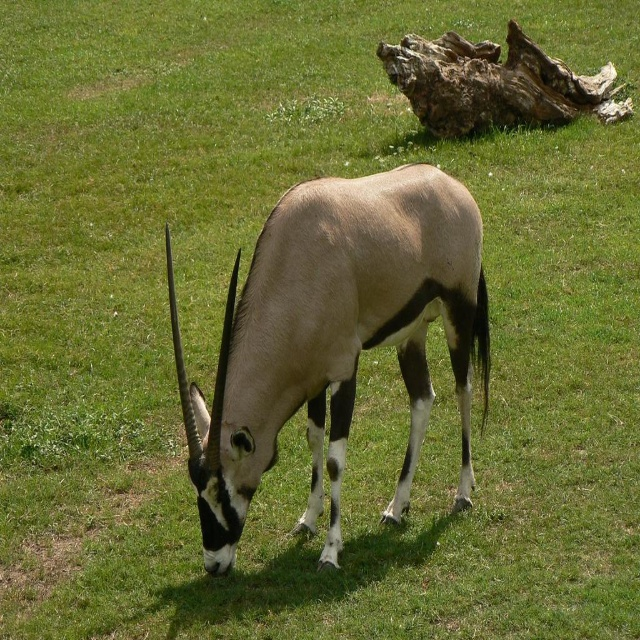Deer: (165, 163, 495, 575)
